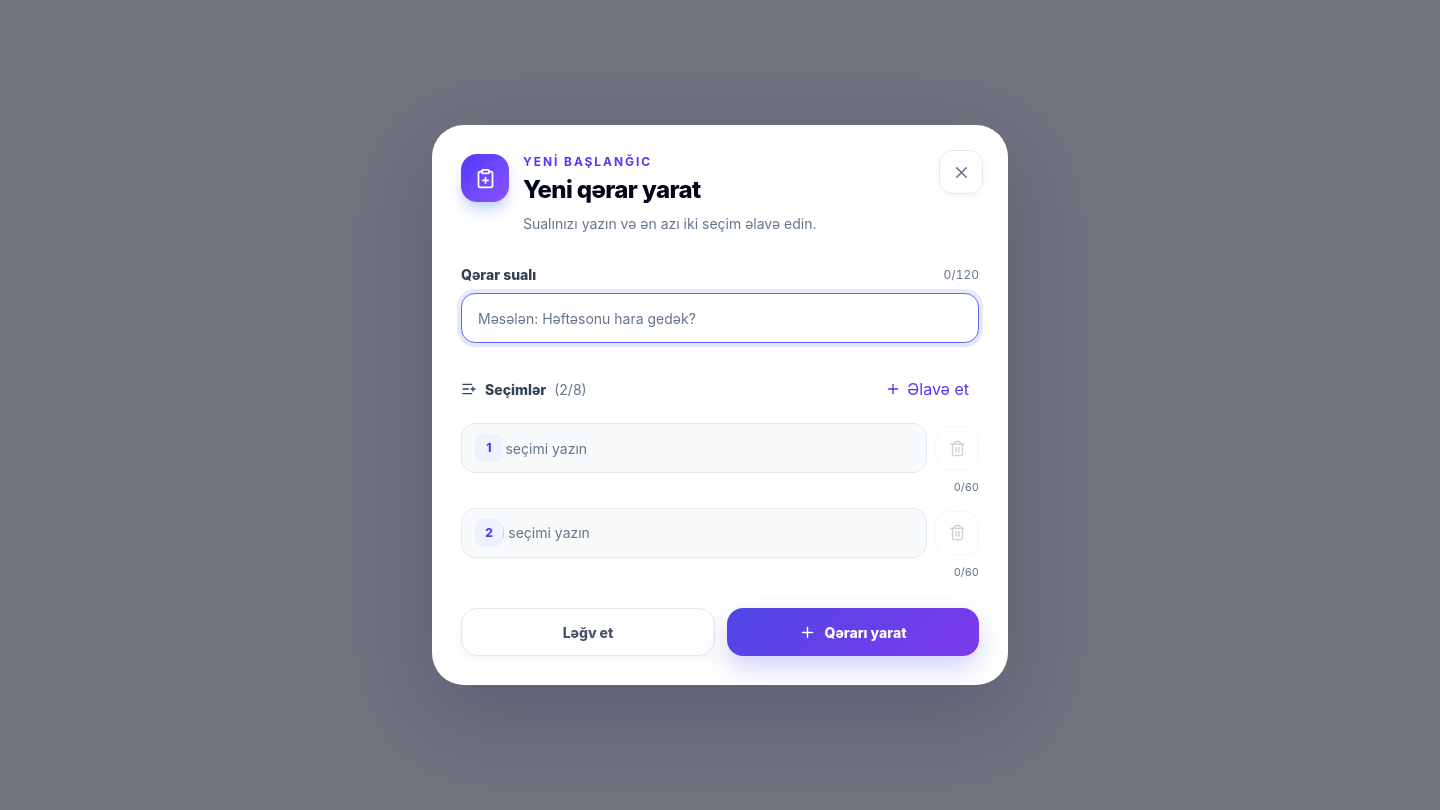
Test case: DecisionForm › rejects duplicate options after case and whitespace normalization
Type "Harada işləyim?" into the field labelled "Qərar sualı" at [720, 318], box x1=461 y1=293 x2=979 y2=343
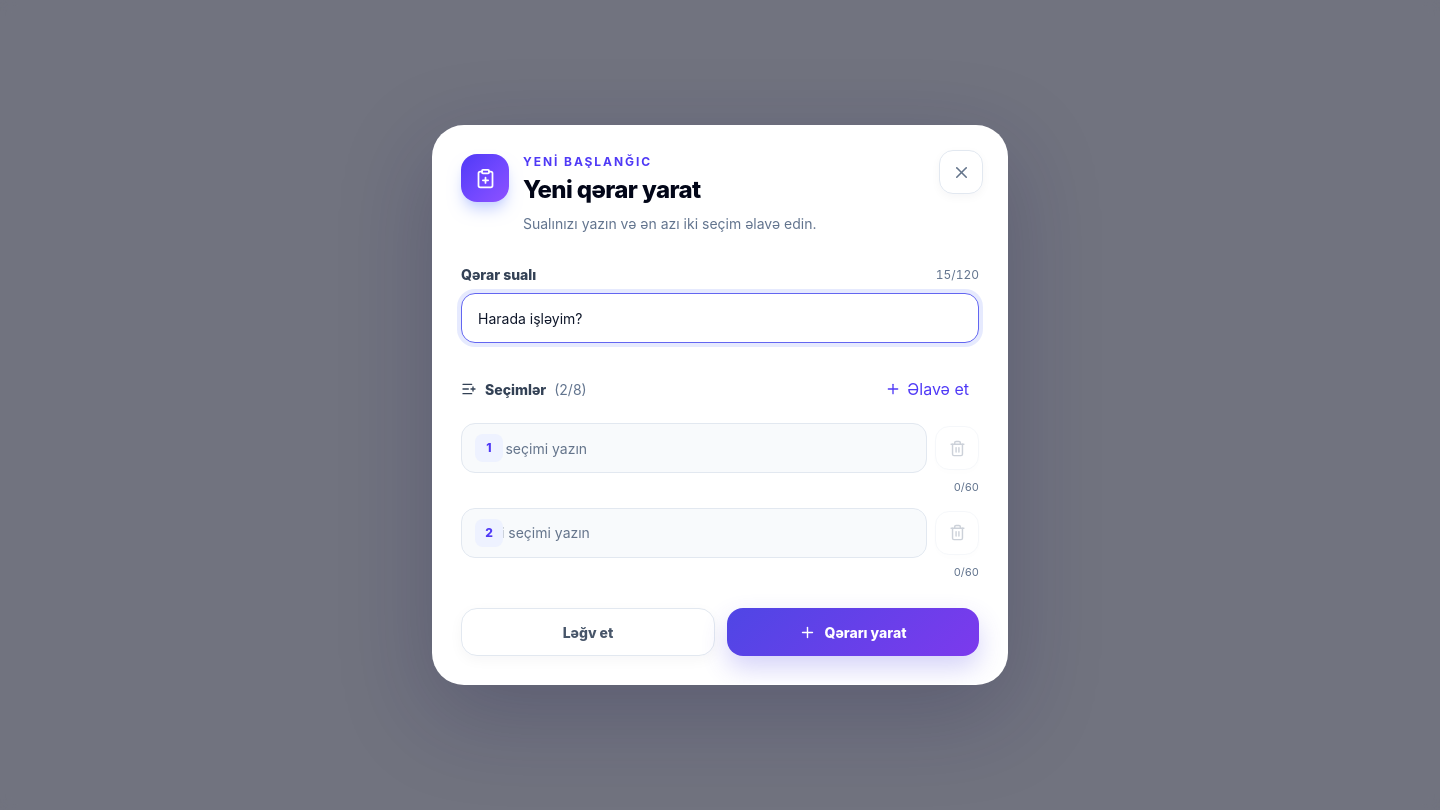
Type "Evdə" into the field named "Seçim 1" at [694, 448], box x1=461 y1=423 x2=927 y2=473
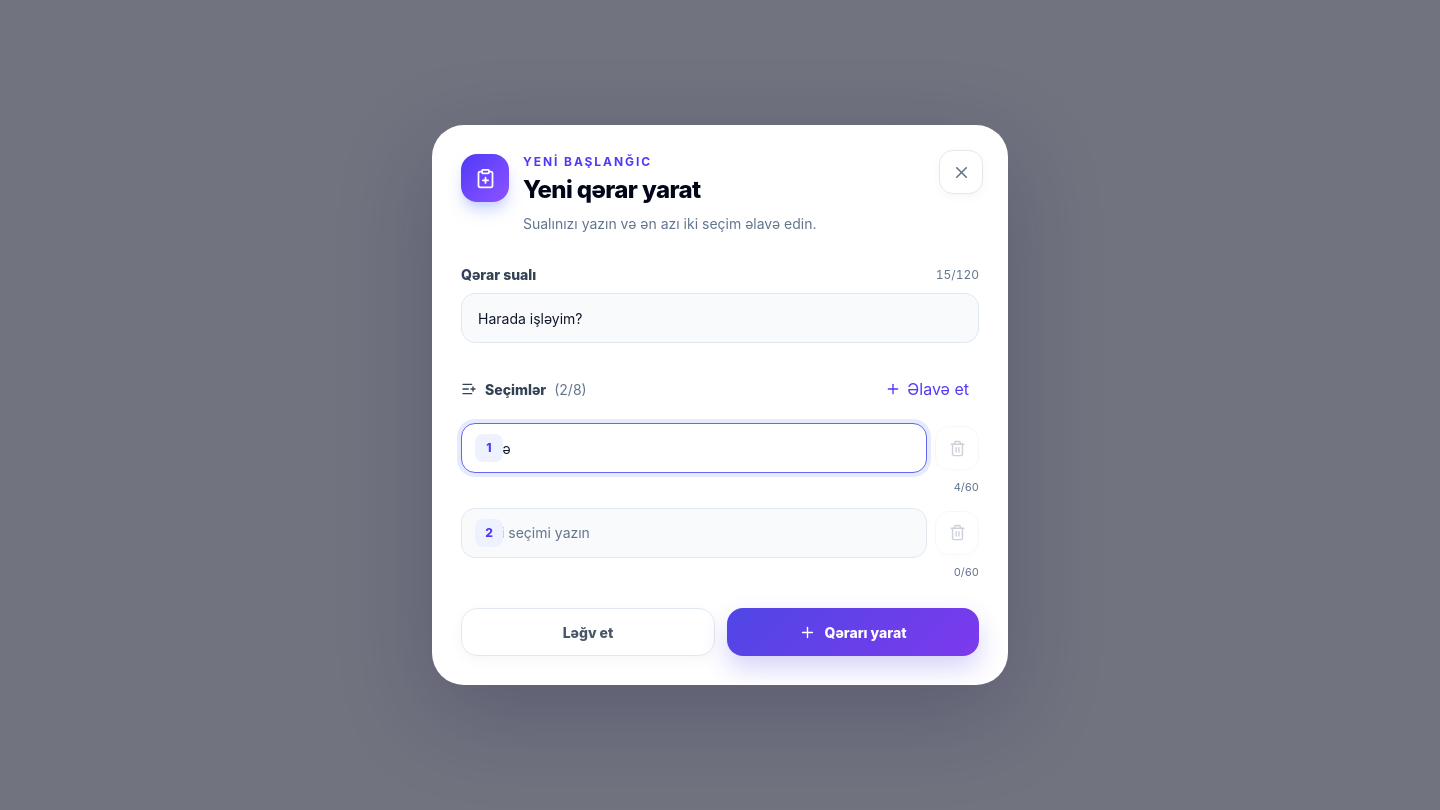
Type "  evdə  " into the field named "Seçim 2" at [694, 532], box x1=461 y1=508 x2=927 y2=558
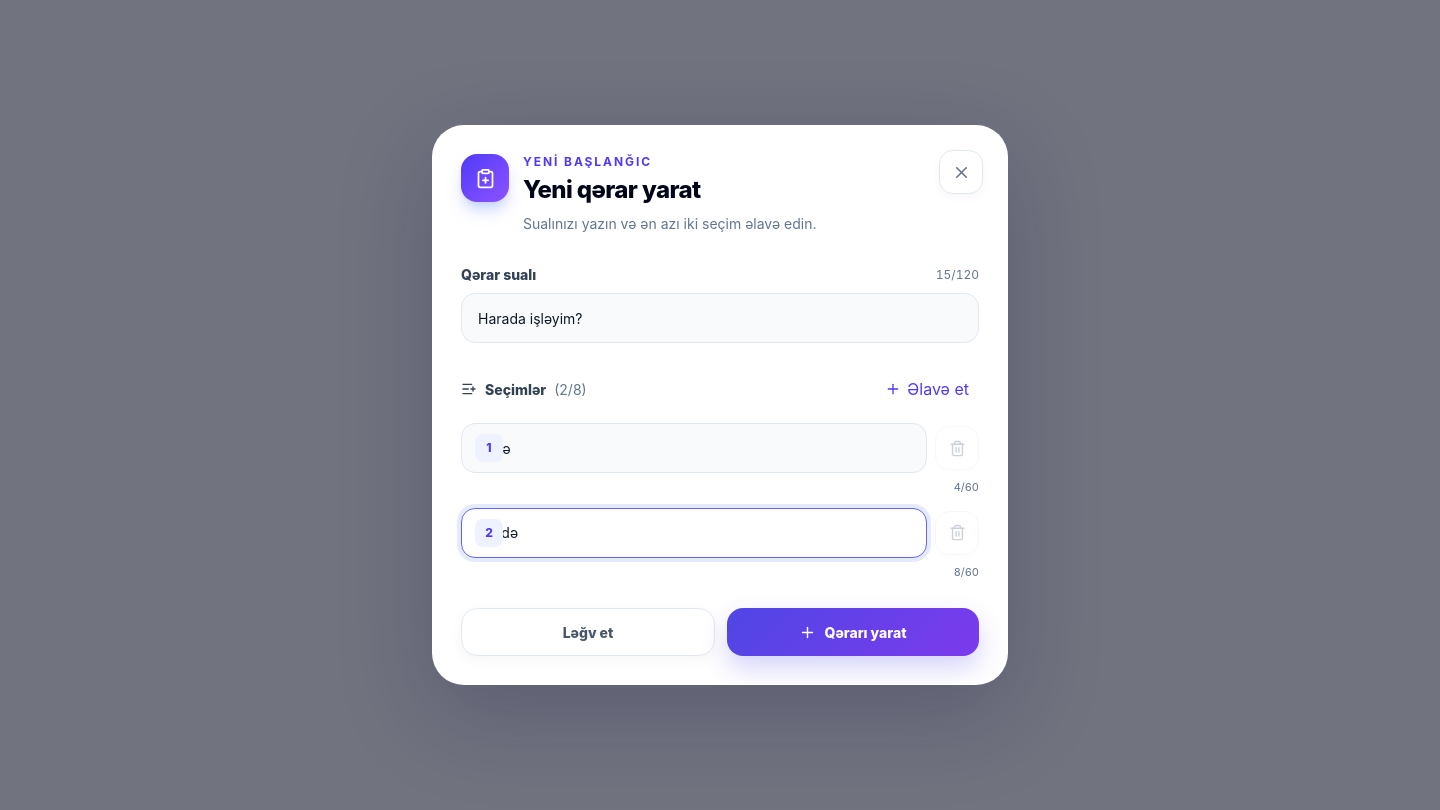
Click the button "Qərarı yarat" at [853, 632], box x1=727 y1=608 x2=979 y2=656
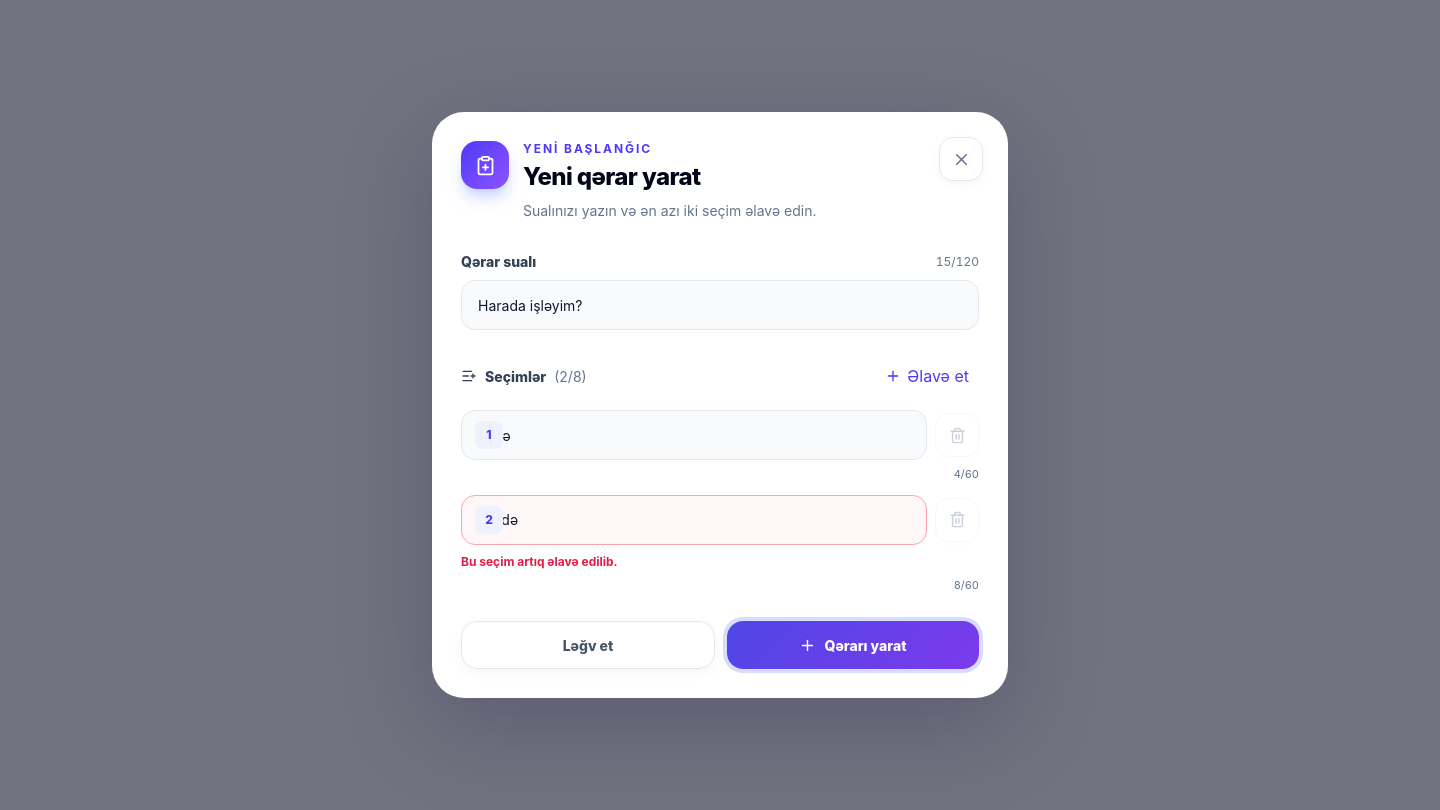
expect the text "Bu seçim artıq əlavə edilib." is shown: met, box x1=461 y1=554 x2=618 y2=568
